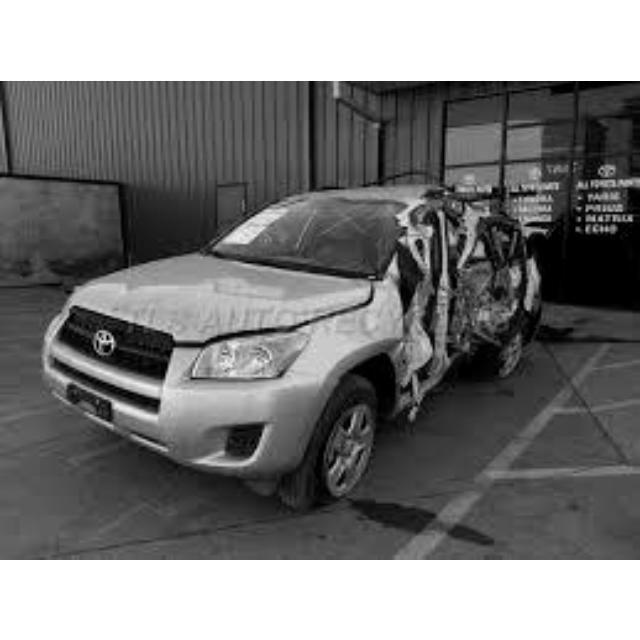doorouter-dent: (408, 216, 464, 346)
fender-dent: (314, 305, 412, 361)
